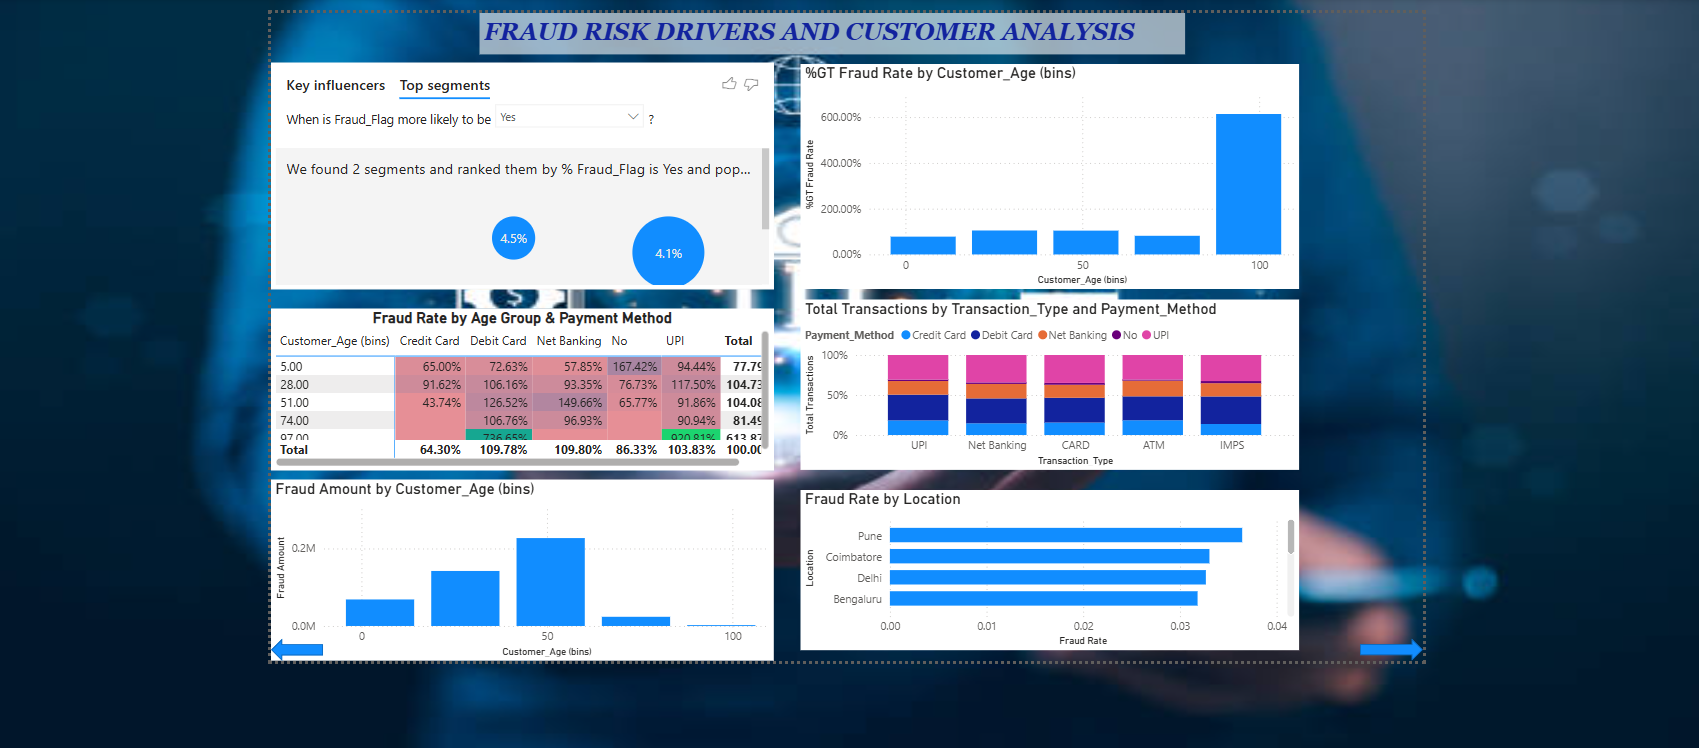

The page's visual inventory and layout, read from the dashboard file:
{"tool":"powerbi","page":{"name":"FRAUD RISK DRIVERS ","canvas":[1280,720],"ordinal":3},"visuals":[{"type":"textbox","box":[231.4,0,784.3,45.7],"z":0},{"type":"keyDriversVisual","fields":{"Target":["Fraud_data.Fraud_Flag"],"ExplainBy":["Fraud_data.Transaction_Type","Sum(Fraud_data.Customer_Age)","Fraud_data.Payment_Method","Fraud_data.Location","Fraud_data.Amount"]},"box":[0,54.3,558.6,251.4],"z":1000},{"type":"clusteredColumnChart","fields":{"Category":["Fraud_data.Customer_Age (bins)"],"Y":["Fraud_data.Fraud Rate"]},"box":[588.1,56.3,553.7,250.3],"z":2000},{"type":"pivotTable","title":"Fraud Rate by Age Group & Payment Method","fields":{"Rows":["Fraud_data.Customer_Age (bins)"],"Columns":["Fraud_data.Payment_Method"],"Values":["Fraud_data.Fraud Rate"]},"box":[0,328.6,558.6,180],"z":3000},{"type":"hundredPercentStackedColumnChart","fields":{"Category":["Fraud_data.Transaction_Type"],"Y":["Fraud_data.Total Transactions"],"Series":["Fraud_data.Payment_Method"]},"box":[588.1,319.1,553.7,189.3],"z":4000},{"type":"clusteredColumnChart","fields":{"Y":["Fraud_data.Fraud Amount"],"Category":["Fraud_data.Customer_Age (bins)"]},"box":[0,518.6,558.6,201.4],"z":5000},{"type":"barChart","fields":{"Category":["Fraud_data.Location"],"Y":["Fraud_data.Fraud Rate"]},"box":[588.1,530.2,553.7,178.3],"z":6000},{"type":"shape","box":[1209.7,694.8,69.8,24.8],"z":7000},{"type":"shape","box":[0,694.5,57.9,25],"z":8000}]}

Visuals, with their boxes on the page's 1280x720 design canvas (x1, y1, x2, y2). These are canvas units, not pixel positions in the 1699x748 screenshot, which may show the page scaled, cropped or inside an application window:
textbox: <box>231,0,1016,46</box>
keyDriversVisual - Fraud_data.Fraud_Flag x Fraud_data.Transaction_Type: <box>0,54,559,306</box>
clusteredColumnChart - Fraud_data.Customer_Age (bins) x Fraud_data.Fraud Rate: <box>588,56,1142,307</box>
"Fraud Rate by Age Group & Payment Method" pivotTable: <box>0,329,559,509</box>
hundredPercentStackedColumnChart - Fraud_data.Transaction_Type x Fraud_data.Total Transactions: <box>588,319,1142,508</box>
clusteredColumnChart - Fraud_data.Fraud Amount x Fraud_data.Customer_Age (bins): <box>0,519,559,720</box>
barChart - Fraud_data.Location x Fraud_data.Fraud Rate: <box>588,530,1142,708</box>
shape: <box>1210,695,1280,720</box>
shape: <box>0,694,58,720</box>
